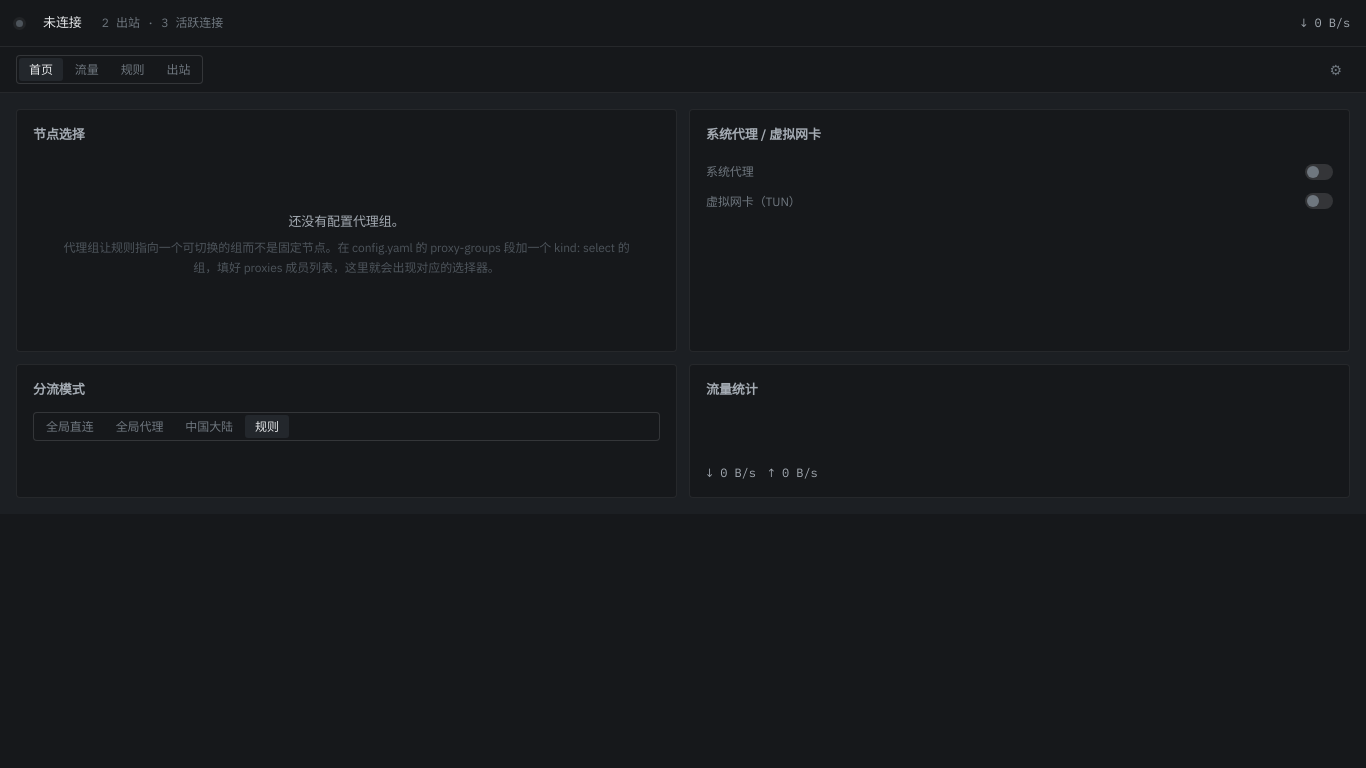
Test: 组装：诚实的计量口径 › 没有逐流字节时，合计带的量词是「条连接」而非字节单位
Step 1. Click the radio button labelled "流量" → (87, 70), box [65,58,109,81]
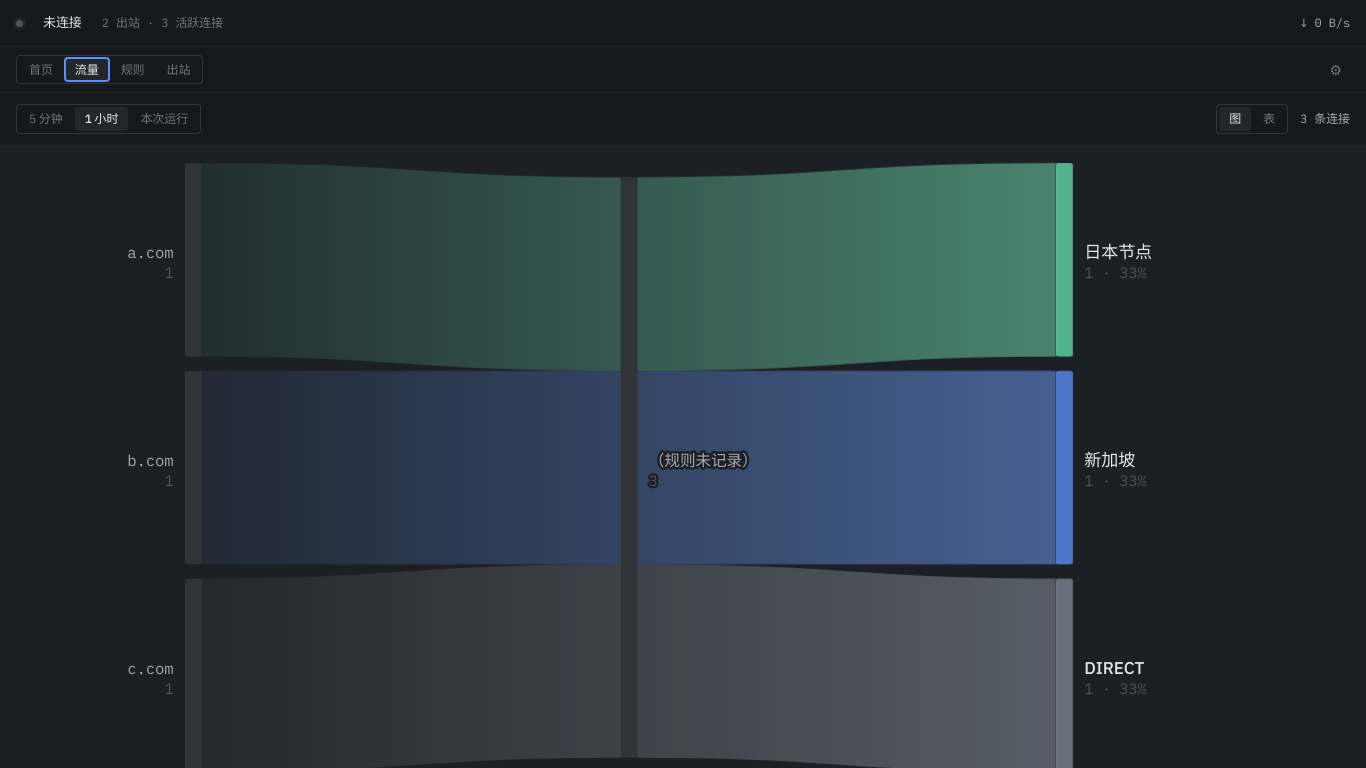
Check: the text with class "total" reads "3 条连接", box [1300,111,1350,126]
